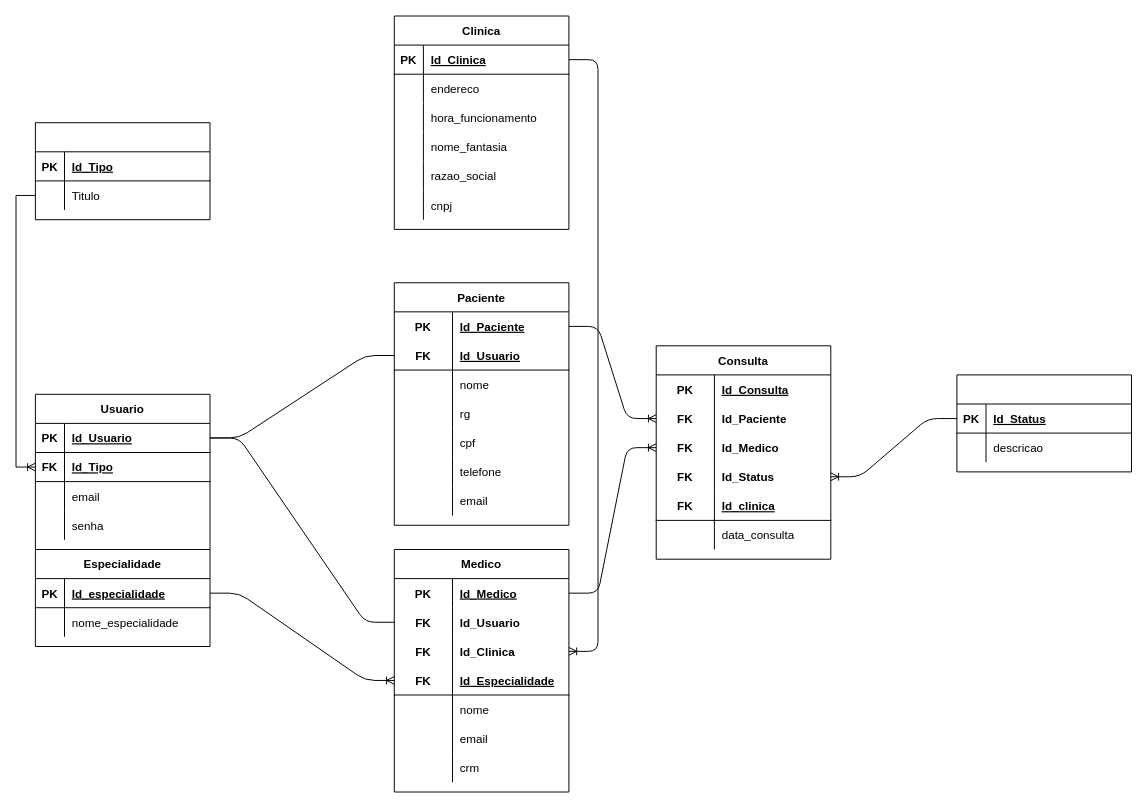
Some shapes in this 1148 by 808 pixel diagram are drawn without their labels. Each missing label, with the box of its shape:
Status_Consulta: (956, 374, 1132, 472)
Tipo_Usuario: (34, 122, 210, 220)
